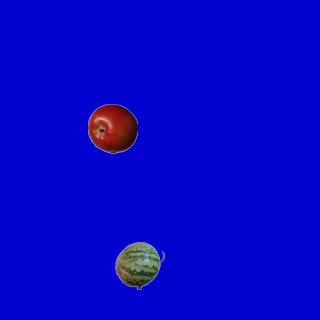Apple Braeburn: (87, 103, 137, 153)
Watermelon: (114, 240, 164, 290)
